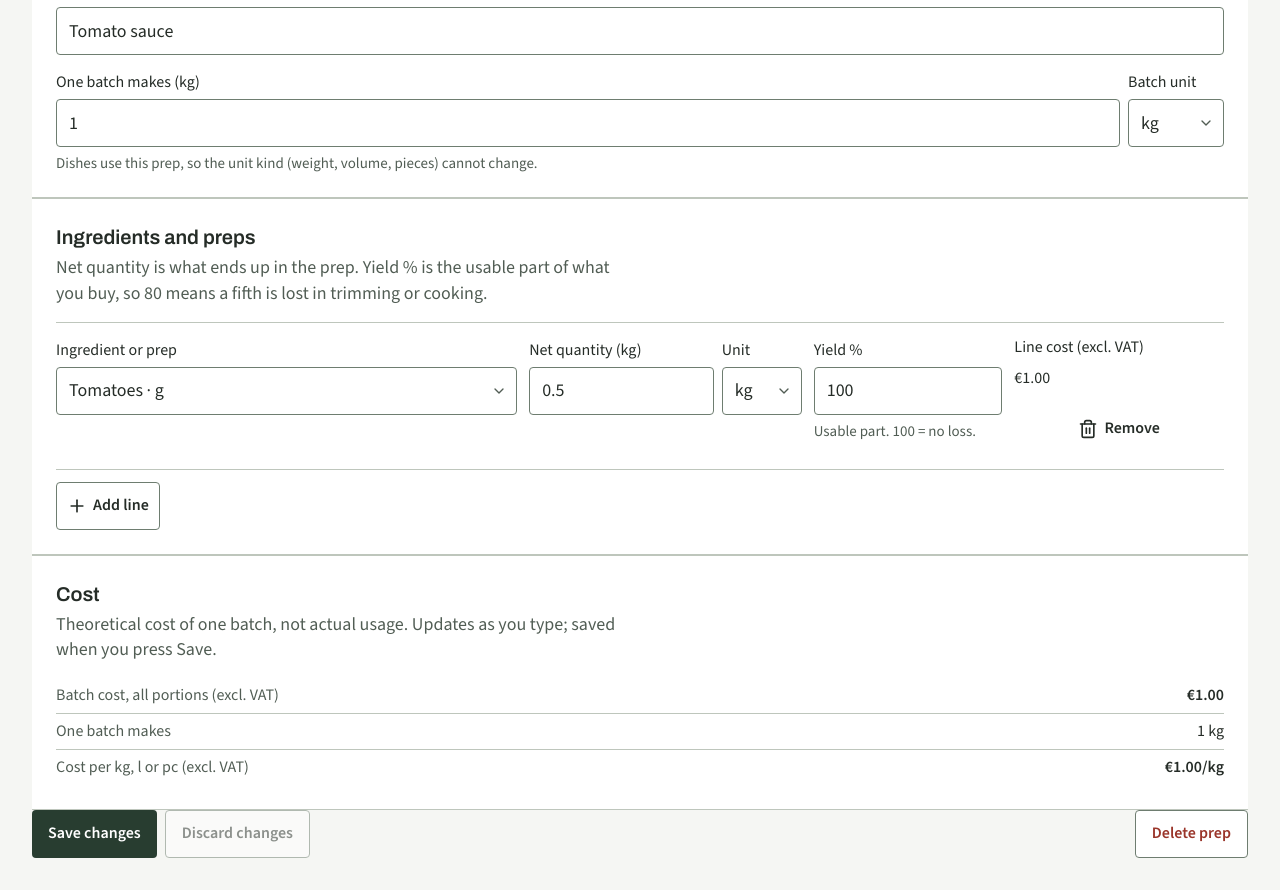
where it is used › the prep delete dialog warns up front, in lower case, and names the recipes
(page scrolled)
Click the button "Delete prep" at (1191, 834), box 1135,810 -> 1248,858
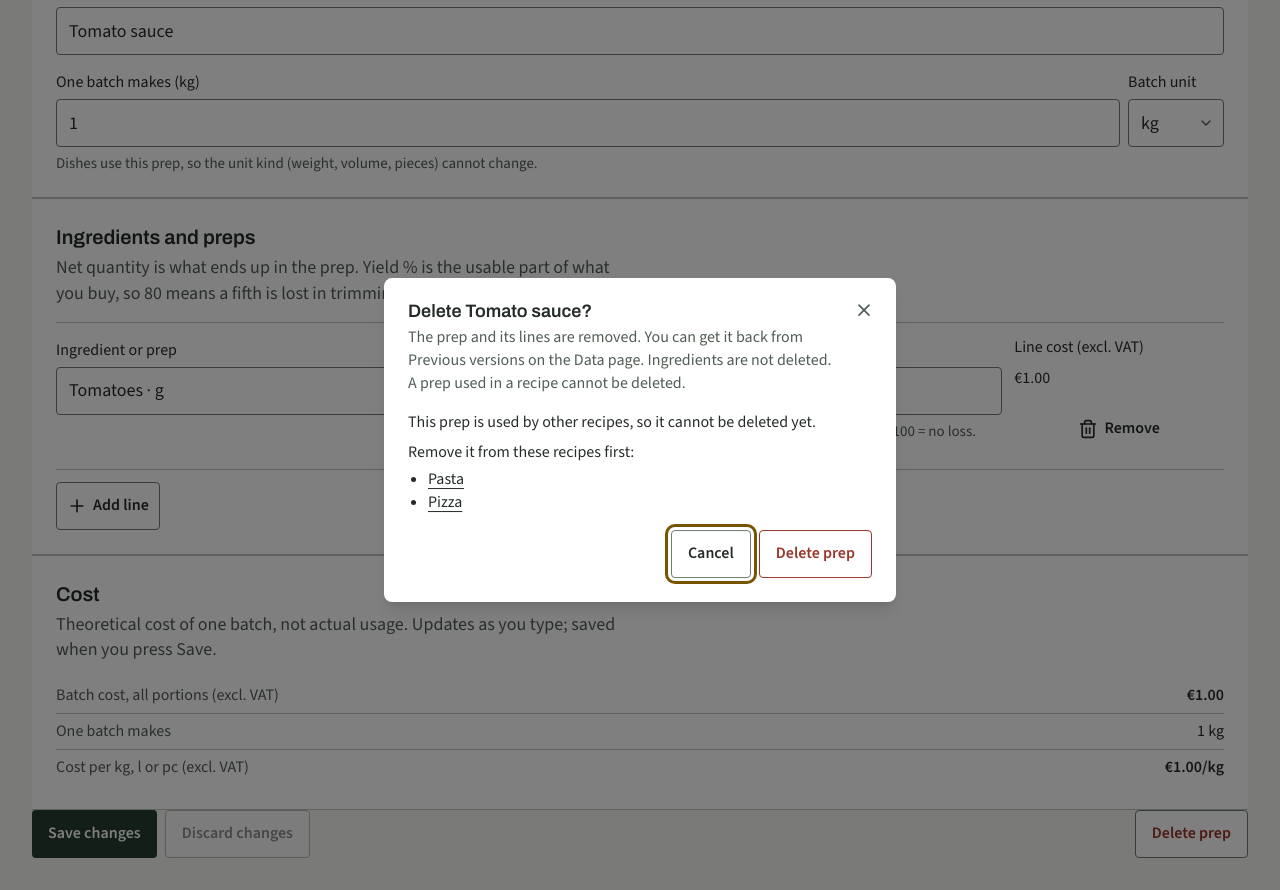
Check: the dialog shows "A prep used in a recipe cannot be deleted.", box 408,326 -> 832,393
Check: the text "used by other recipes, so it cannot be deleted yet" is shown, box 408,411 -> 816,432
Check: the links read "Pasta", "Pizza", in this order, box 428,468 -> 464,489; 428,491 -> 462,512
Click the button "Delete prep" at (815, 554), box 759,530 -> 872,578
(page scrolled)
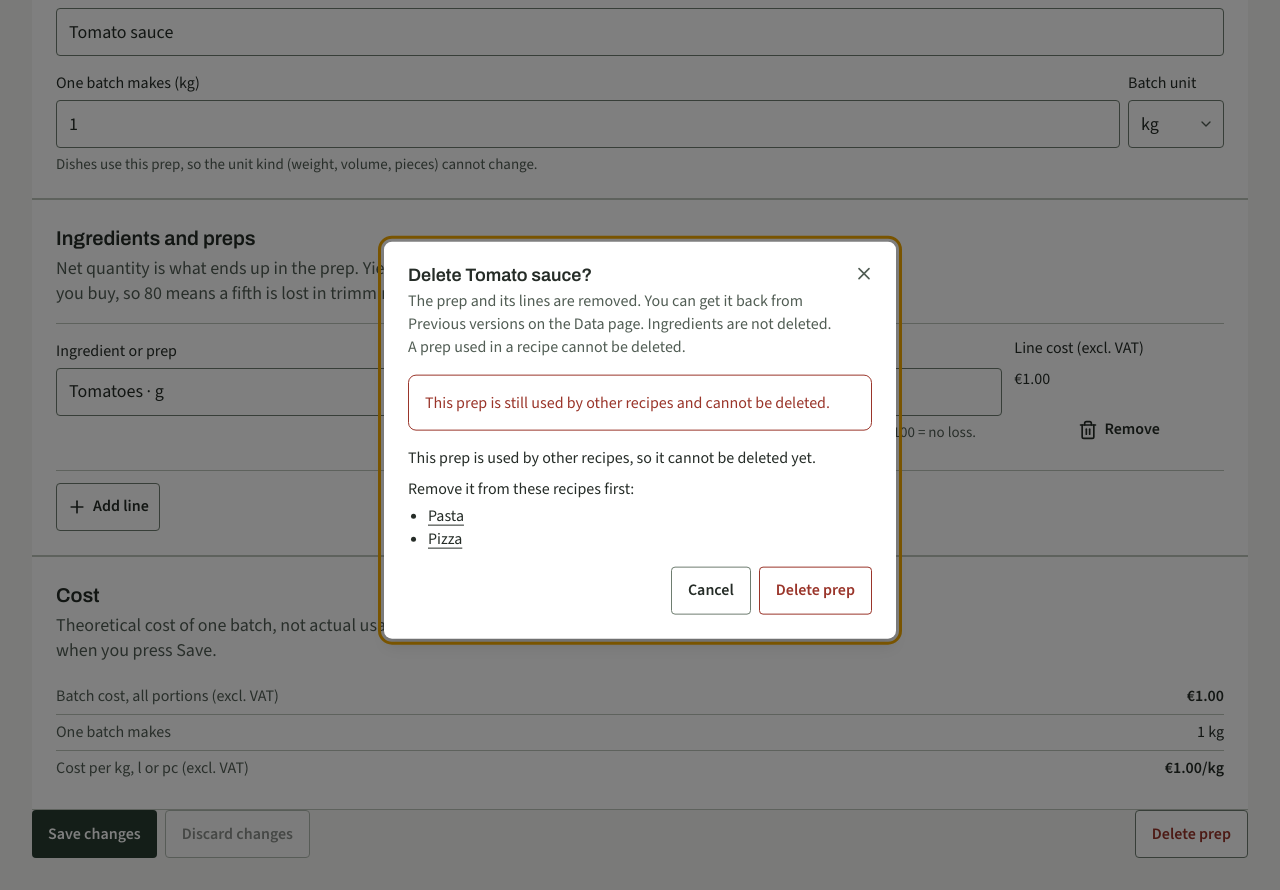
Check: the message reads "This prep is still used by other recipes and cannot be deleted.", box 425,391 -> 830,412
